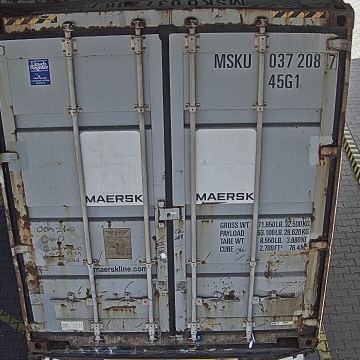serial_id: (215, 53, 337, 68)
